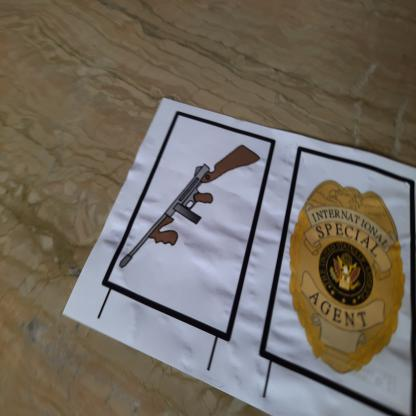Bootlegger: (112, 141, 272, 272)
G-man: (286, 179, 411, 383)
